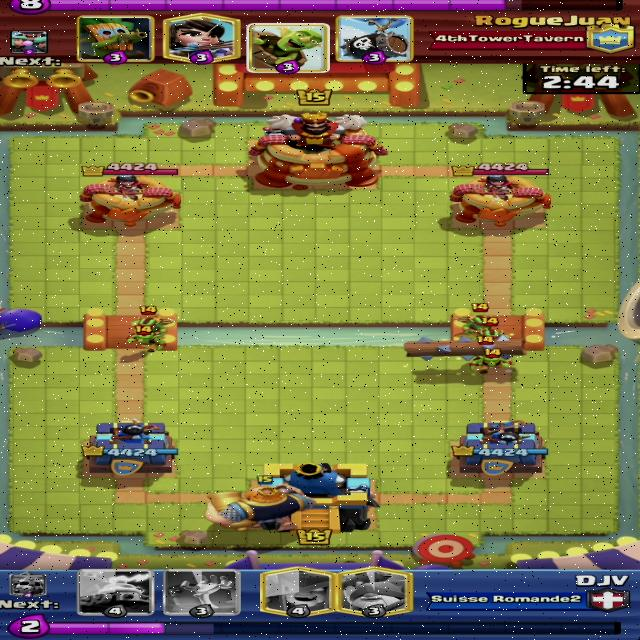Enemy-Goblin: (468, 348, 515, 374), (128, 325, 170, 352)
Enemy-SpearGoblin: (454, 303, 497, 335), (129, 305, 174, 334), (470, 316, 509, 348)
Player-GoblinDrill: (9, 32, 46, 60)
Player-Log: (396, 335, 532, 362)
Player-RoyalGiant: (204, 474, 316, 532)
